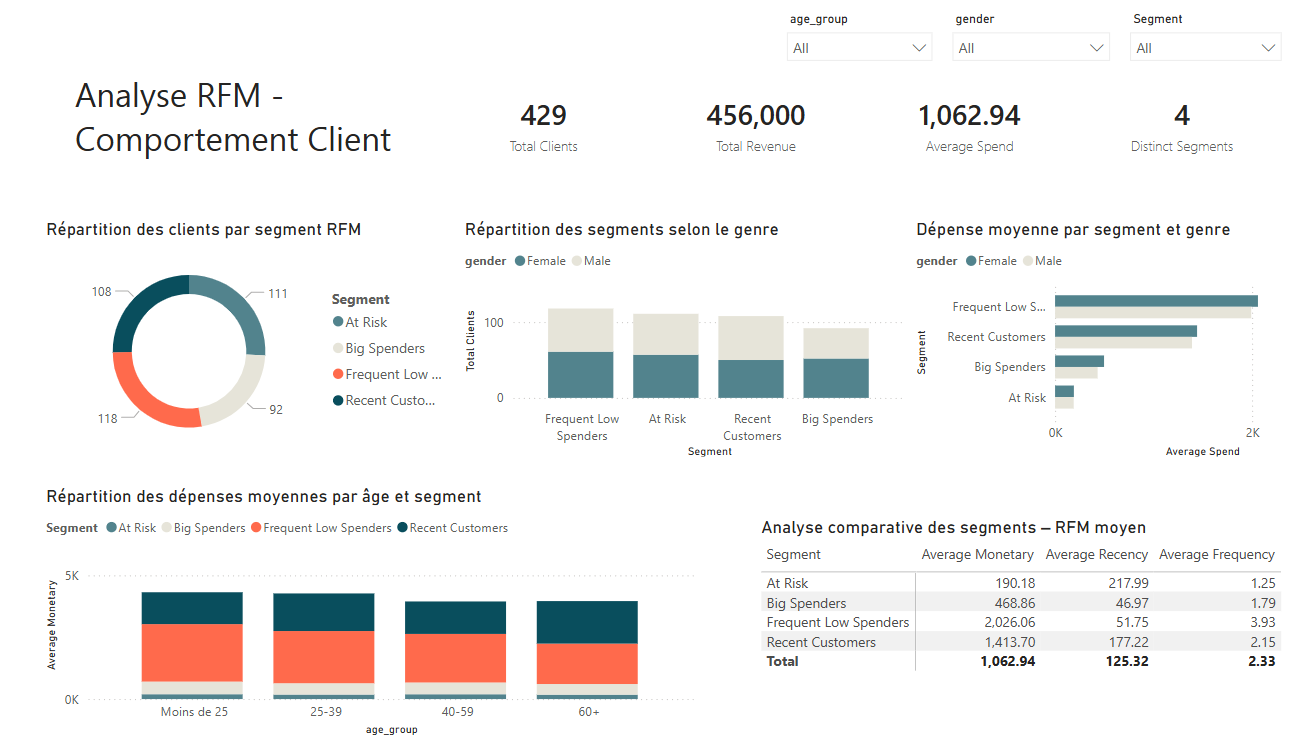

Layout of this report page (visuals, bound fields, positions):
{"tool":"powerbi","page":{"name":"Page 1","canvas":[1280,720],"ordinal":0},"visuals":[{"type":"card","fields":{"Values":["customer_segmentation.Total Clients"]},"box":[383.2,79.8,206.2,85.6],"z":0},{"type":"card","fields":{"Values":["customer_segmentation.Total Revenue"]},"box":[589.4,79.8,206.2,85.6],"z":1},{"type":"card","fields":{"Values":["customer_segmentation.Average Spend"]},"box":[795.6,79.8,206.2,85.6],"z":2},{"type":"card","fields":{"Values":["customer_segmentation.Distinct Segments"]},"box":[1001.8,79.8,206.2,85.6],"z":3},{"type":"donutChart","title":"Répartition des clients par segment RFM","fields":{"Category":["customer_segmentation.Segment"],"Y":["customer_segmentation.Total Clients"]},"box":[0,215,405.6,235.4],"z":4},{"type":"pivotTable","title":"Analyse comparative des segments – RFM moyen","fields":{"Rows":["customer_segmentation.Segment"],"Values":["customer_segmentation.Average Monetary","customer_segmentation.Average Recency","customer_segmentation.Average Frequency"]},"box":[692.5,502.9,543.7,191.6],"z":5},{"type":"clusteredBarChart","title":"Dépense moyenne par segment et genre","fields":{"Category":["customer_segmentation.Segment"],"Y":["customer_segmentation.Average Spend"],"Series":["customer_segmentation.gender"]},"box":[842.3,215,437.7,235.4],"z":7},{"type":"columnChart","title":"Répartition des segments selon le genre","fields":{"Category":["customer_segmentation.Segment"],"Y":["customer_segmentation.Total Clients"],"Series":["customer_segmentation.gender"]},"box":[405.6,215,436.7,235.4],"z":8},{"type":"slicer","fields":{"Values":["customer_segmentation.Segment"]},"box":[1044.6,9.7,166.3,72],"z":9},{"type":"slicer","fields":{"Values":["customer_segmentation.gender"]},"box":[872.5,9.7,172.2,72],"z":10},{"type":"slicer","fields":{"Values":["customer_segmentation.age_group"]},"box":[712,9.7,160.5,72],"z":11},{"type":"columnChart","title":"Répartition des dépenses moyennes par âge et segment","fields":{"Category":["customer_segmentation.age_group"],"Series":["customer_segmentation.Segment"],"Y":["customer_segmentation.Average Monetary"]},"box":[0,472.7,638.1,247.1],"z":12},{"type":"textbox","box":[28.2,67.1,343.3,109.9],"z":13}]}

Visuals, with their boxes in screenshot pixels (x1, y1, x2, y2), scaled from the page's 1280x720 canvas onto the 1315x736 screenshot:
card - customer_segmentation.Total Clients: [left=394, top=82, right=606, bottom=169]
card - customer_segmentation.Total Revenue: [left=606, top=82, right=817, bottom=169]
card - customer_segmentation.Average Spend: [left=817, top=82, right=1029, bottom=169]
card - customer_segmentation.Distinct Segments: [left=1029, top=82, right=1241, bottom=169]
"Répartition des clients par segment RFM" donutChart: [left=0, top=220, right=417, bottom=460]
"Analyse comparative des segments – RFM moyen" pivotTable: [left=711, top=514, right=1270, bottom=710]
"Dépense moyenne par segment et genre" clusteredBarChart: [left=865, top=220, right=1314, bottom=460]
"Répartition des segments selon le genre" columnChart: [left=417, top=220, right=865, bottom=460]
slicer - customer_segmentation.Segment: [left=1073, top=10, right=1244, bottom=84]
slicer - customer_segmentation.gender: [left=896, top=10, right=1073, bottom=84]
slicer - customer_segmentation.age_group: [left=731, top=10, right=896, bottom=84]
"Répartition des dépenses moyennes par âge et segment" columnChart: [left=0, top=483, right=656, bottom=735]
textbox: [left=29, top=69, right=382, bottom=181]
